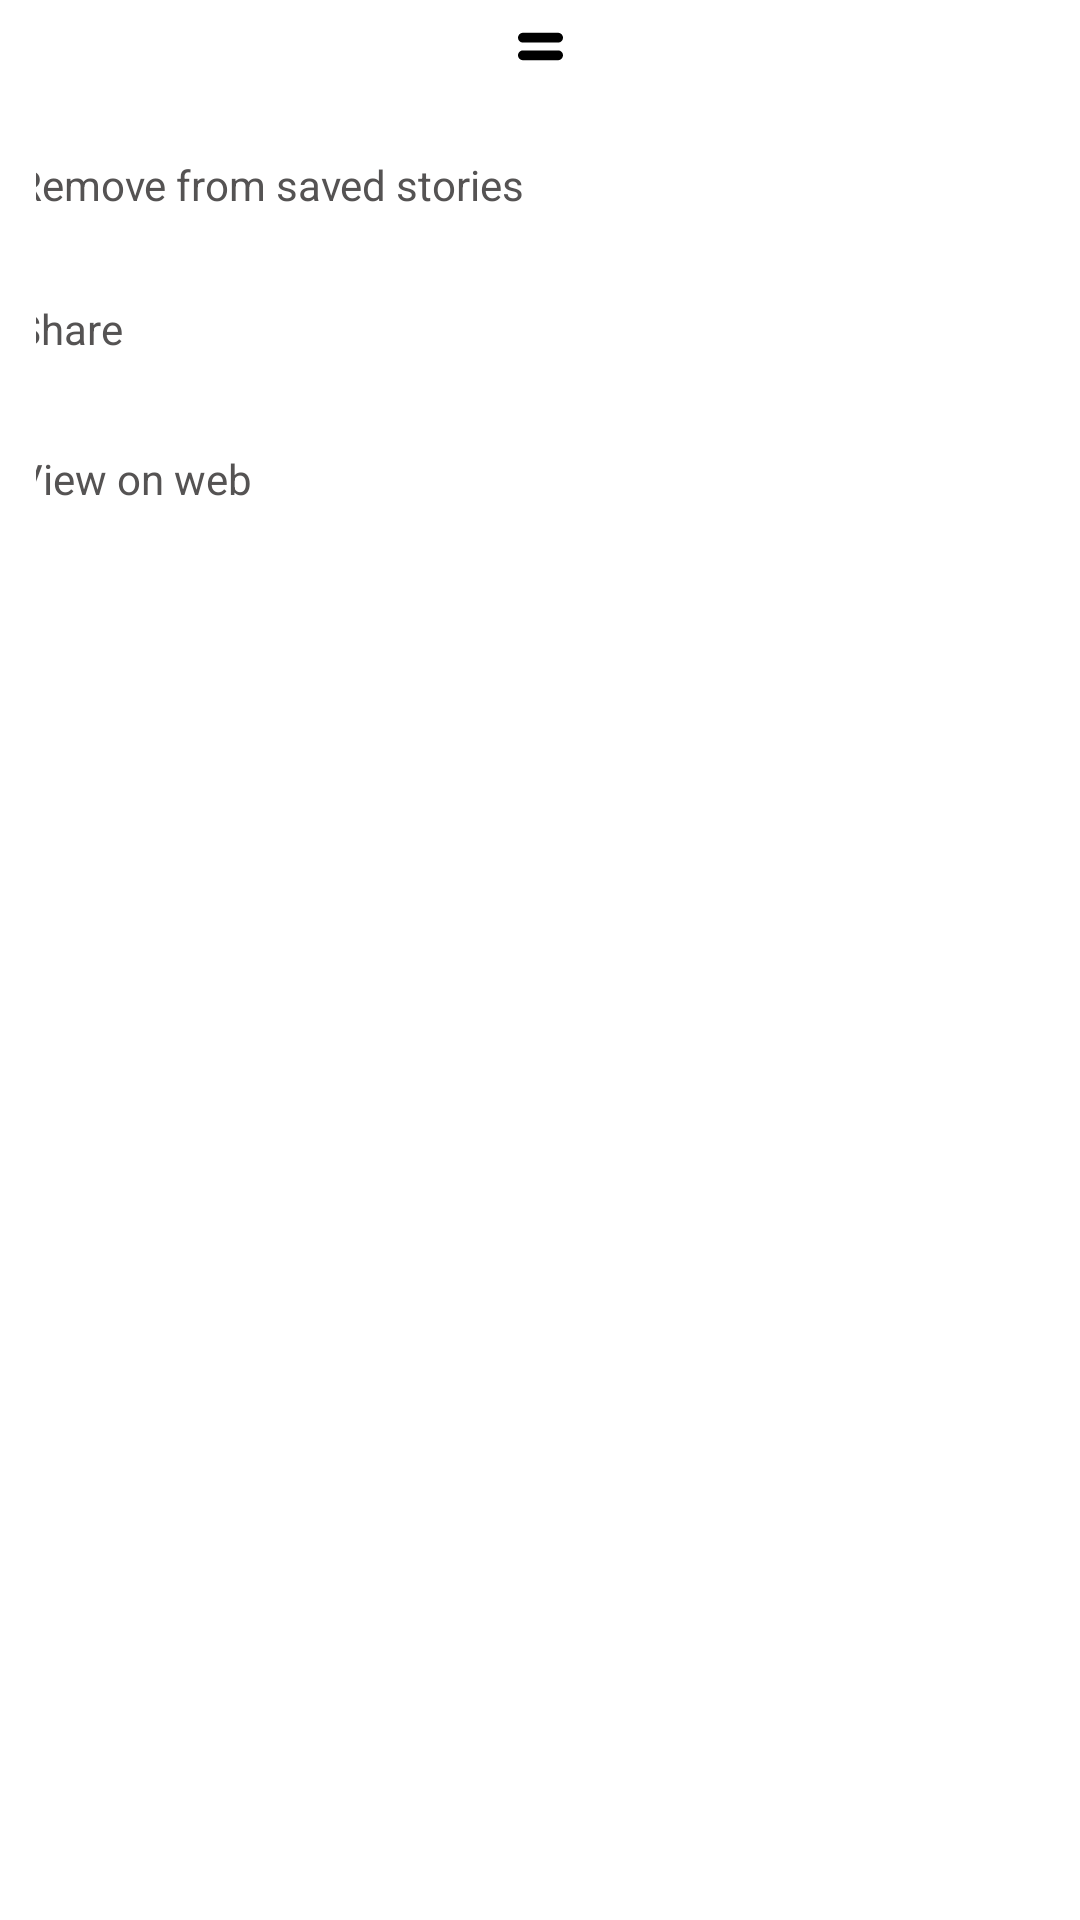

Icons on this 1080 x 1920 Android screen, each with the point to tap as point (x, y):
twoline: point (540, 46)
